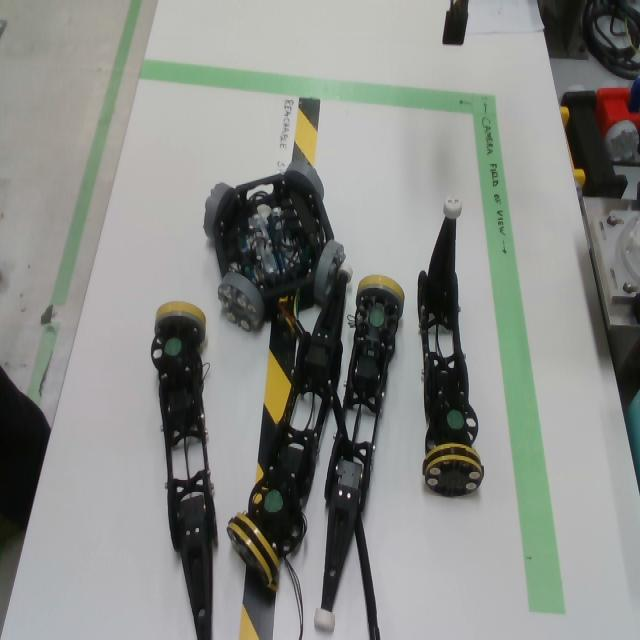body: (213, 173, 334, 319)
body_connector: (217, 273, 265, 332), (313, 241, 345, 303), (203, 183, 234, 240), (284, 159, 325, 200)
leg: (227, 259, 354, 585), (314, 275, 405, 635), (150, 301, 217, 640), (417, 193, 485, 499)
leg_connector: (226, 513, 280, 583), (423, 444, 485, 497), (154, 301, 207, 343), (356, 275, 405, 319)
leg_marker: (265, 491, 282, 512), (447, 411, 464, 431), (165, 337, 181, 356), (370, 309, 384, 327)
